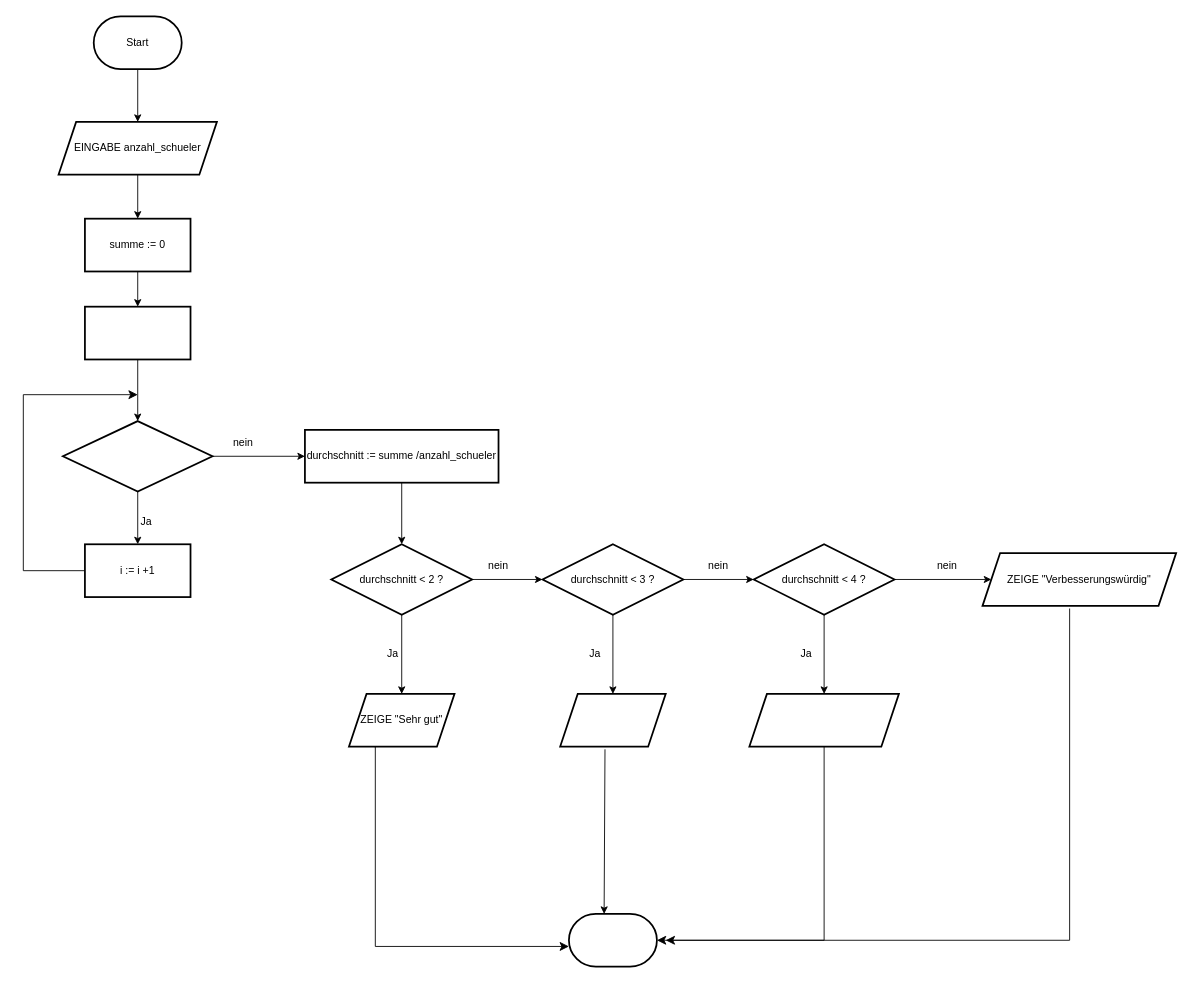
Image size: 1192x982. Some labels were removed from this diagram. Each missing label, with the centre of its shape:
ENDE: the point at 612,940
i :=1: the point at 137,332
i <= anzahl_schueler ?: the point at 137,456
ZEIGE "Befriedigend": the point at 823,720
ZEIGE "Gut": the point at 612,720
